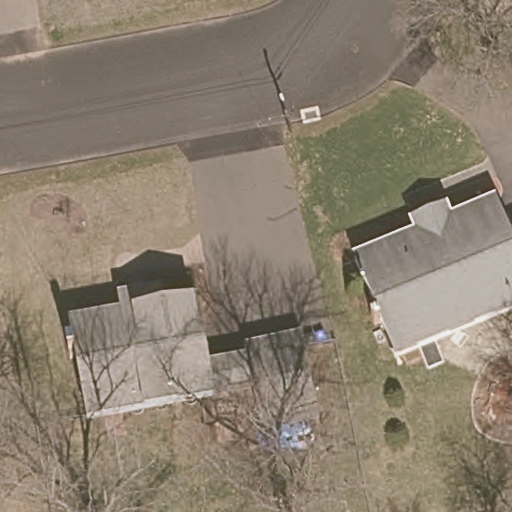DT: (267, 93, 296, 133)
